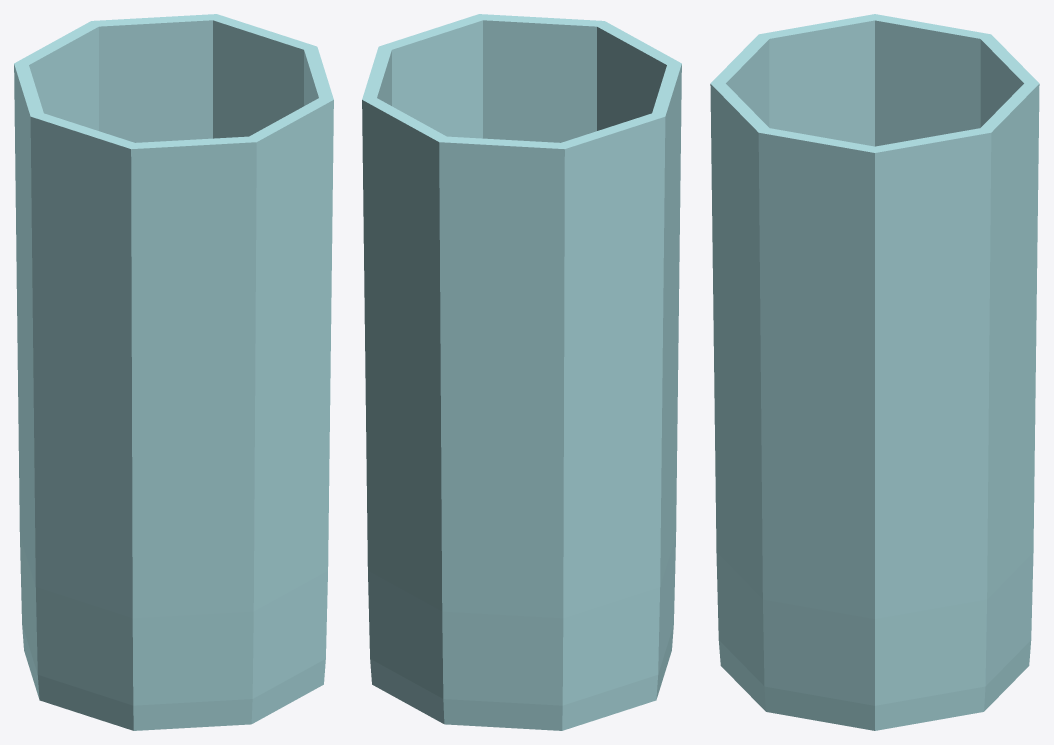
The model's file is Cup_01.gltf.
3 renders of one model, left to right at view 1: azimuth 30°, elevation 25°; view 2: azimuth 150°, elevation 25°; view 3: azimuth 270°, elevation 25°, orthographic.
Parts seen in each view (by area): view 1: node-0; view 2: node-0; view 3: node-0.
Part boxes in pixels (x1=…): node-0: x1=14, y1=14, x2=333, y2=730; node-0: x1=362, y1=14, x2=681, y2=730; node-0: x1=710, y1=14, x2=1039, y2=730.
Bounding box in the file's own units: 5.11 × 9.97 × 5.11.
